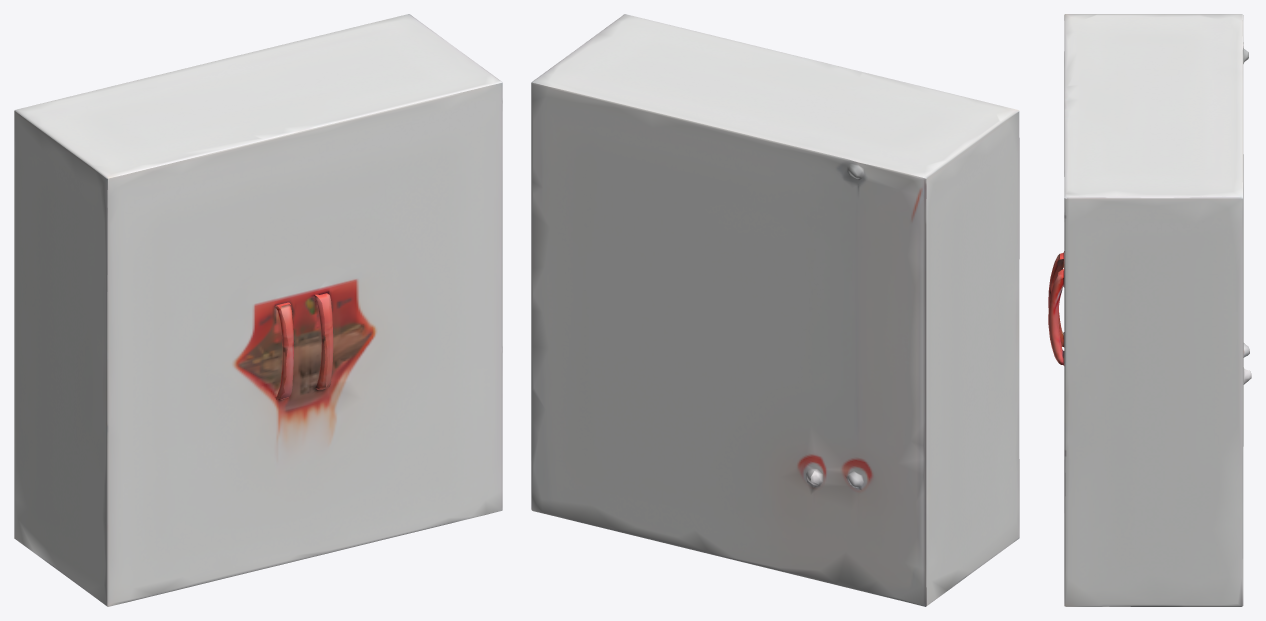
The model's file is PlacardSdb3_3D_textured.glb.
3 views of the same model, side by side, from view 1: azimuth 30°, elevation 25°; view 2: azimuth 150°, elevation 25°; view 3: azimuth 270°, elevation 25° (orthographic). The views are drawn at different scales.
Visible parts, largest first — view 1: temp_mesh.ply; view 2: temp_mesh.ply; view 3: temp_mesh.ply.
Part boxes in pixels (x1,y1,x2,y2): temp_mesh.ply: (14,14,502,606); temp_mesh.ply: (531,14,1019,606); temp_mesh.ply: (1048,14,1251,606).
Bounding box in the file's own units: 1.9 × 1.97 × 0.888.
Materials: 1 (1 with a texture image).
